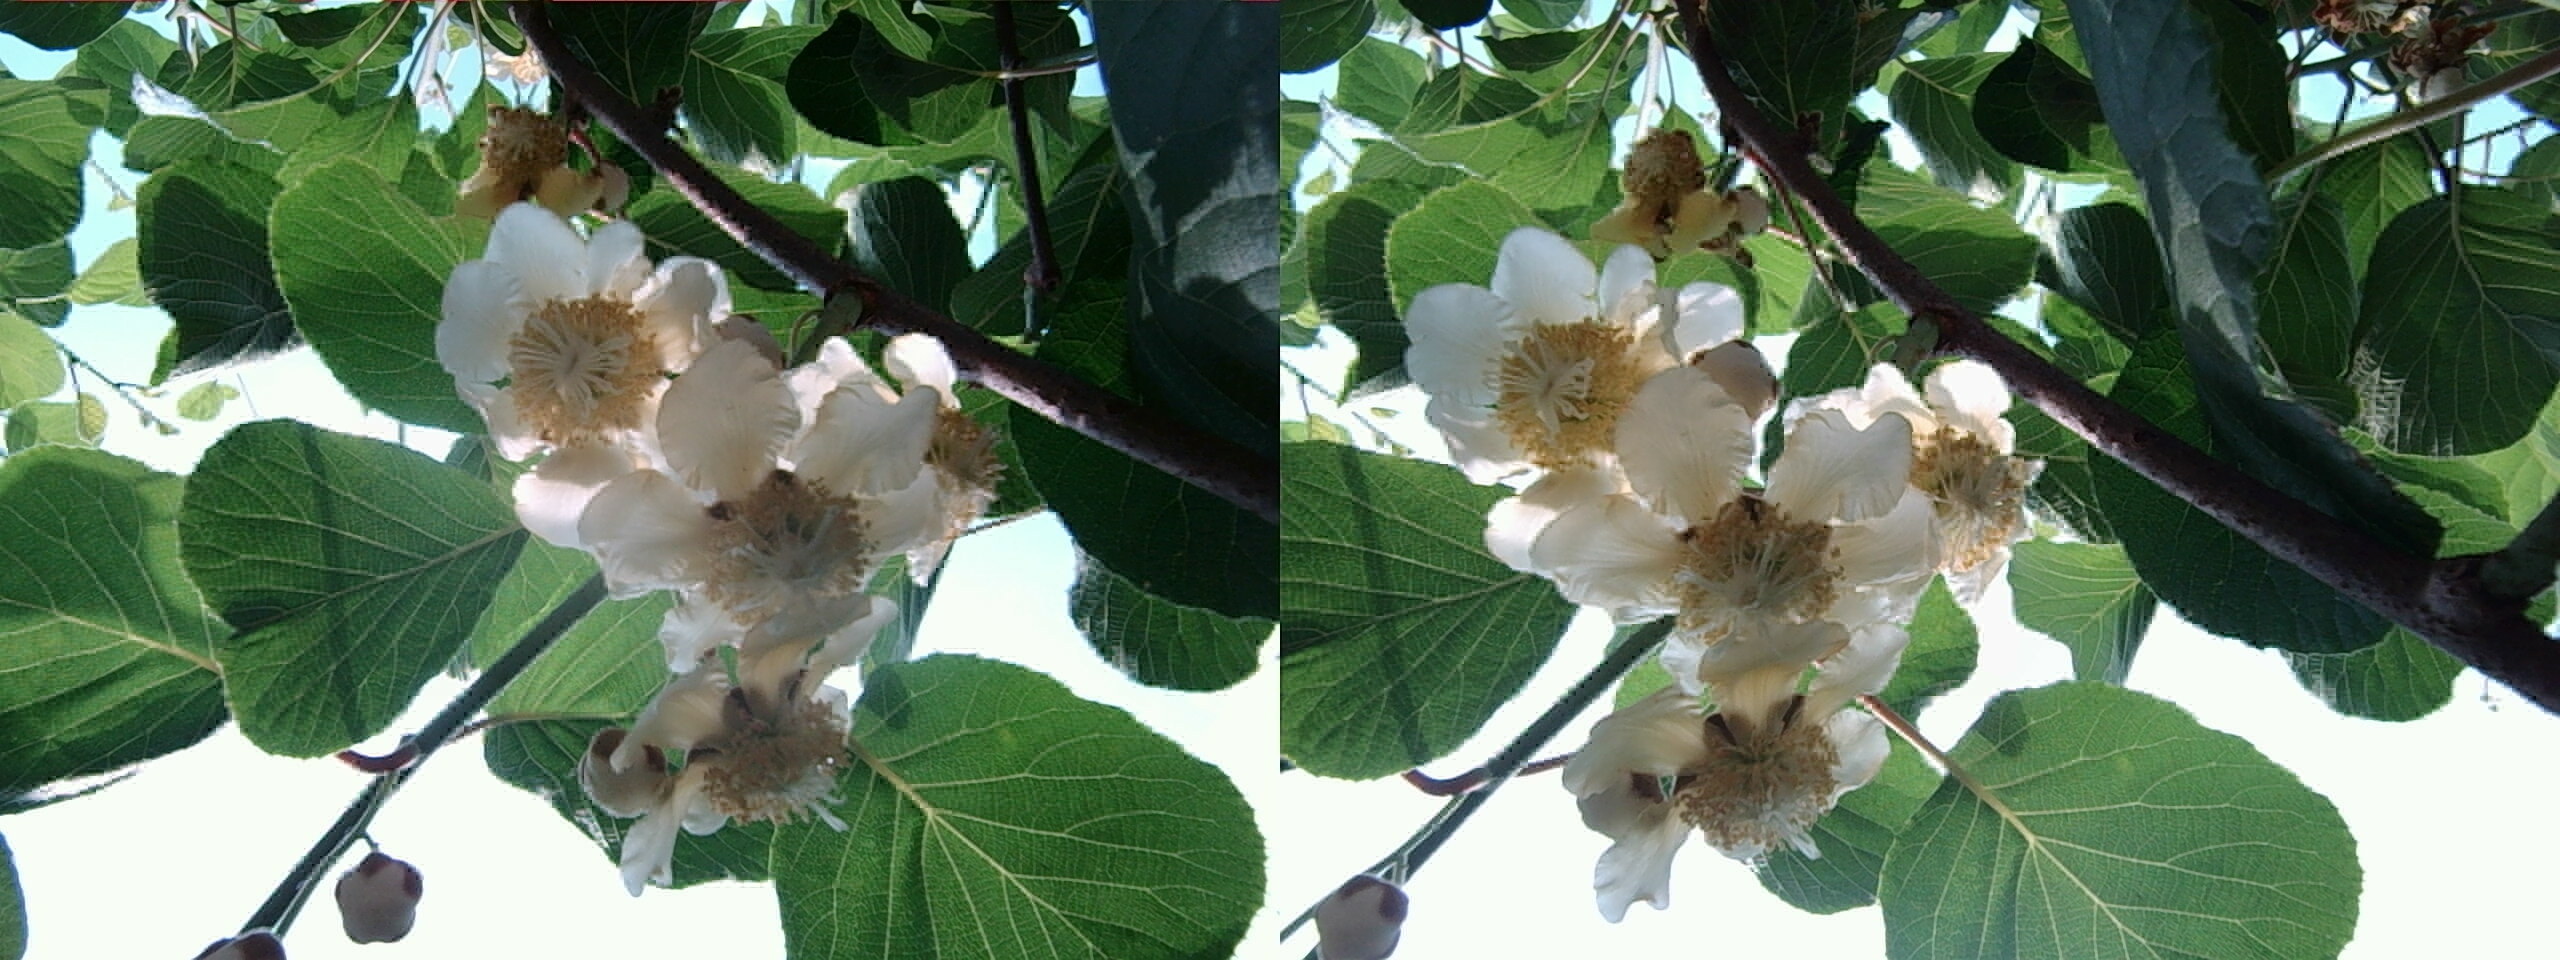flower: (1556, 616, 1917, 895), (1595, 434, 1941, 697), (433, 207, 723, 478), (576, 622, 870, 883), (1414, 230, 1687, 487), (1799, 371, 2046, 589), (1603, 343, 1773, 516), (647, 330, 811, 501), (1585, 121, 1771, 271)
